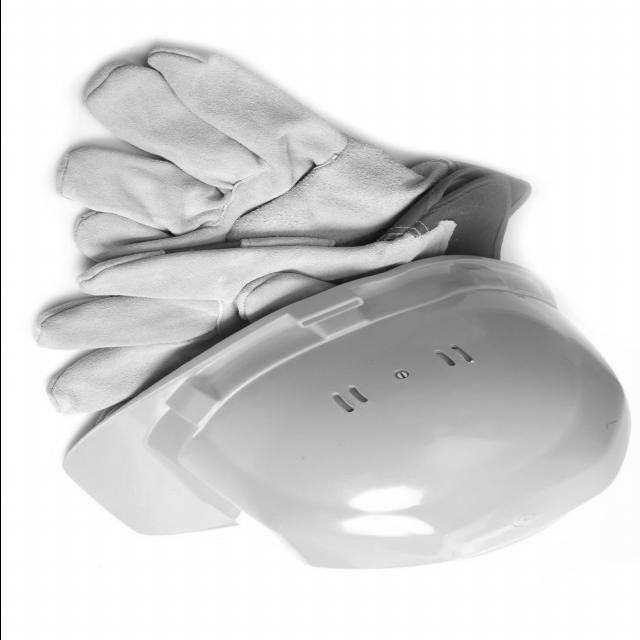safety_helmet: (58, 253, 629, 573)
